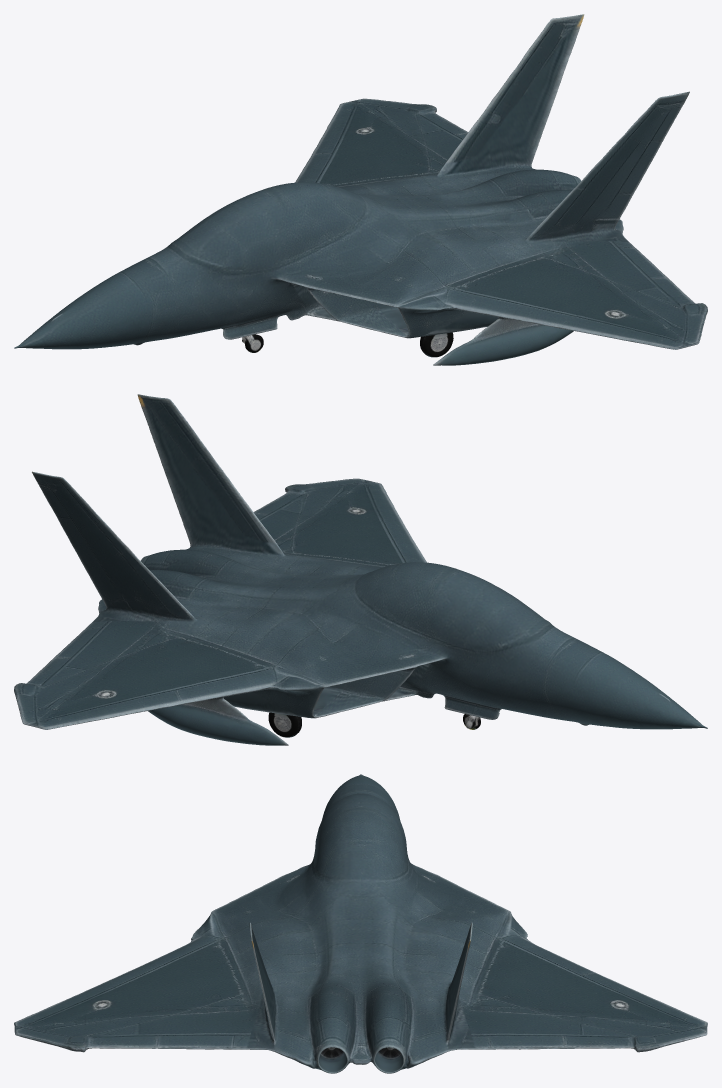
File: jet.glb
3 views of the same model, one above another, from view 1: azimuth 30°, elevation 25°; view 2: azimuth 150°, elevation 25°; view 3: azimuth 270°, elevation 25° (orthographic). The views are drawn at different scales.
Size of the model in its own units: 1.9 by 0.609 by 1.77.
Materials: 1 (1 with a texture image).
